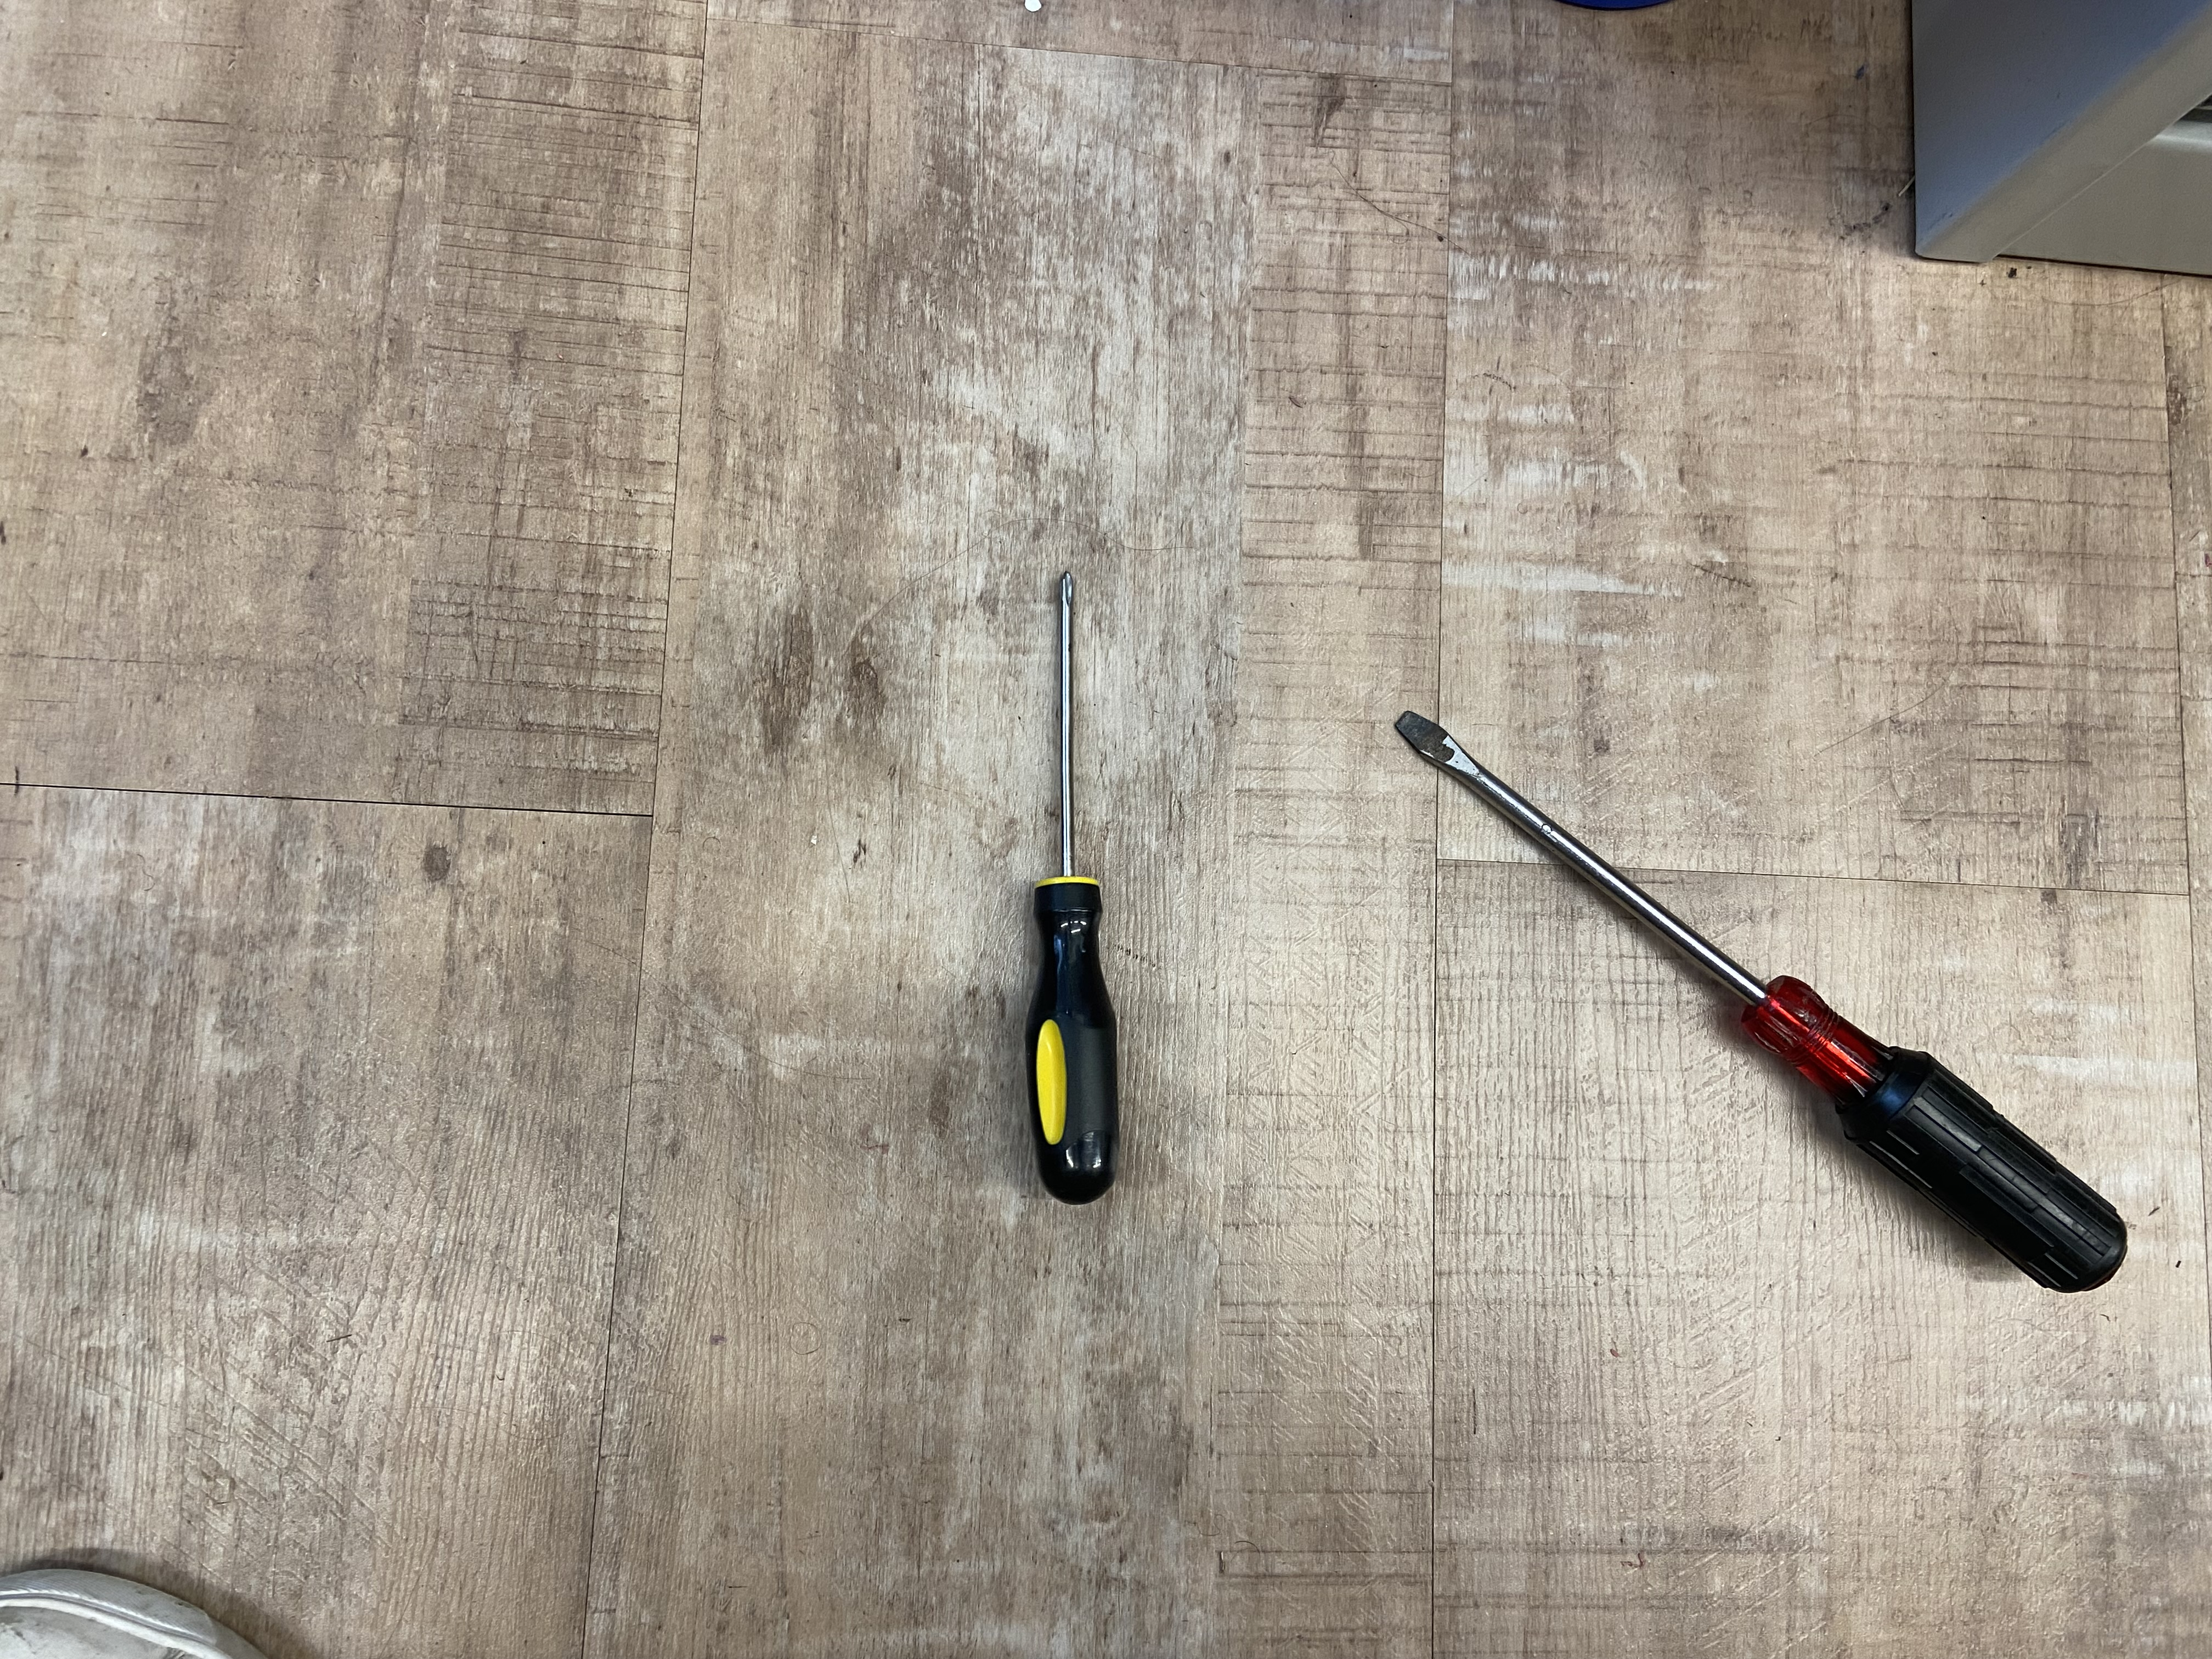screwdriver: (1390, 706, 2125, 1297), (1024, 563, 1132, 1211)
